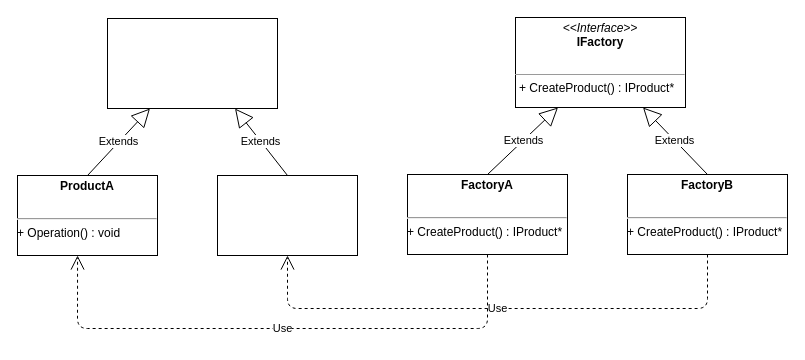
The diagram is 805 pixels wide and 360 high, and some of its shapes have lost their labels. Here are the shapes that lost their labels. From the top down, the centre of each, then its label:
At point 192,63: "<<Interface>> IProduct + Operation() : void".
At point 287,215: "ProductB + Operation() : void".
